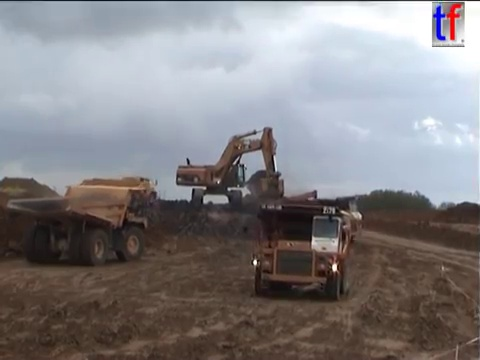excavator: (173, 125, 287, 213), (241, 188, 320, 220)
truck: (5, 181, 148, 264), (241, 200, 352, 301), (266, 195, 364, 242), (75, 175, 160, 209)
